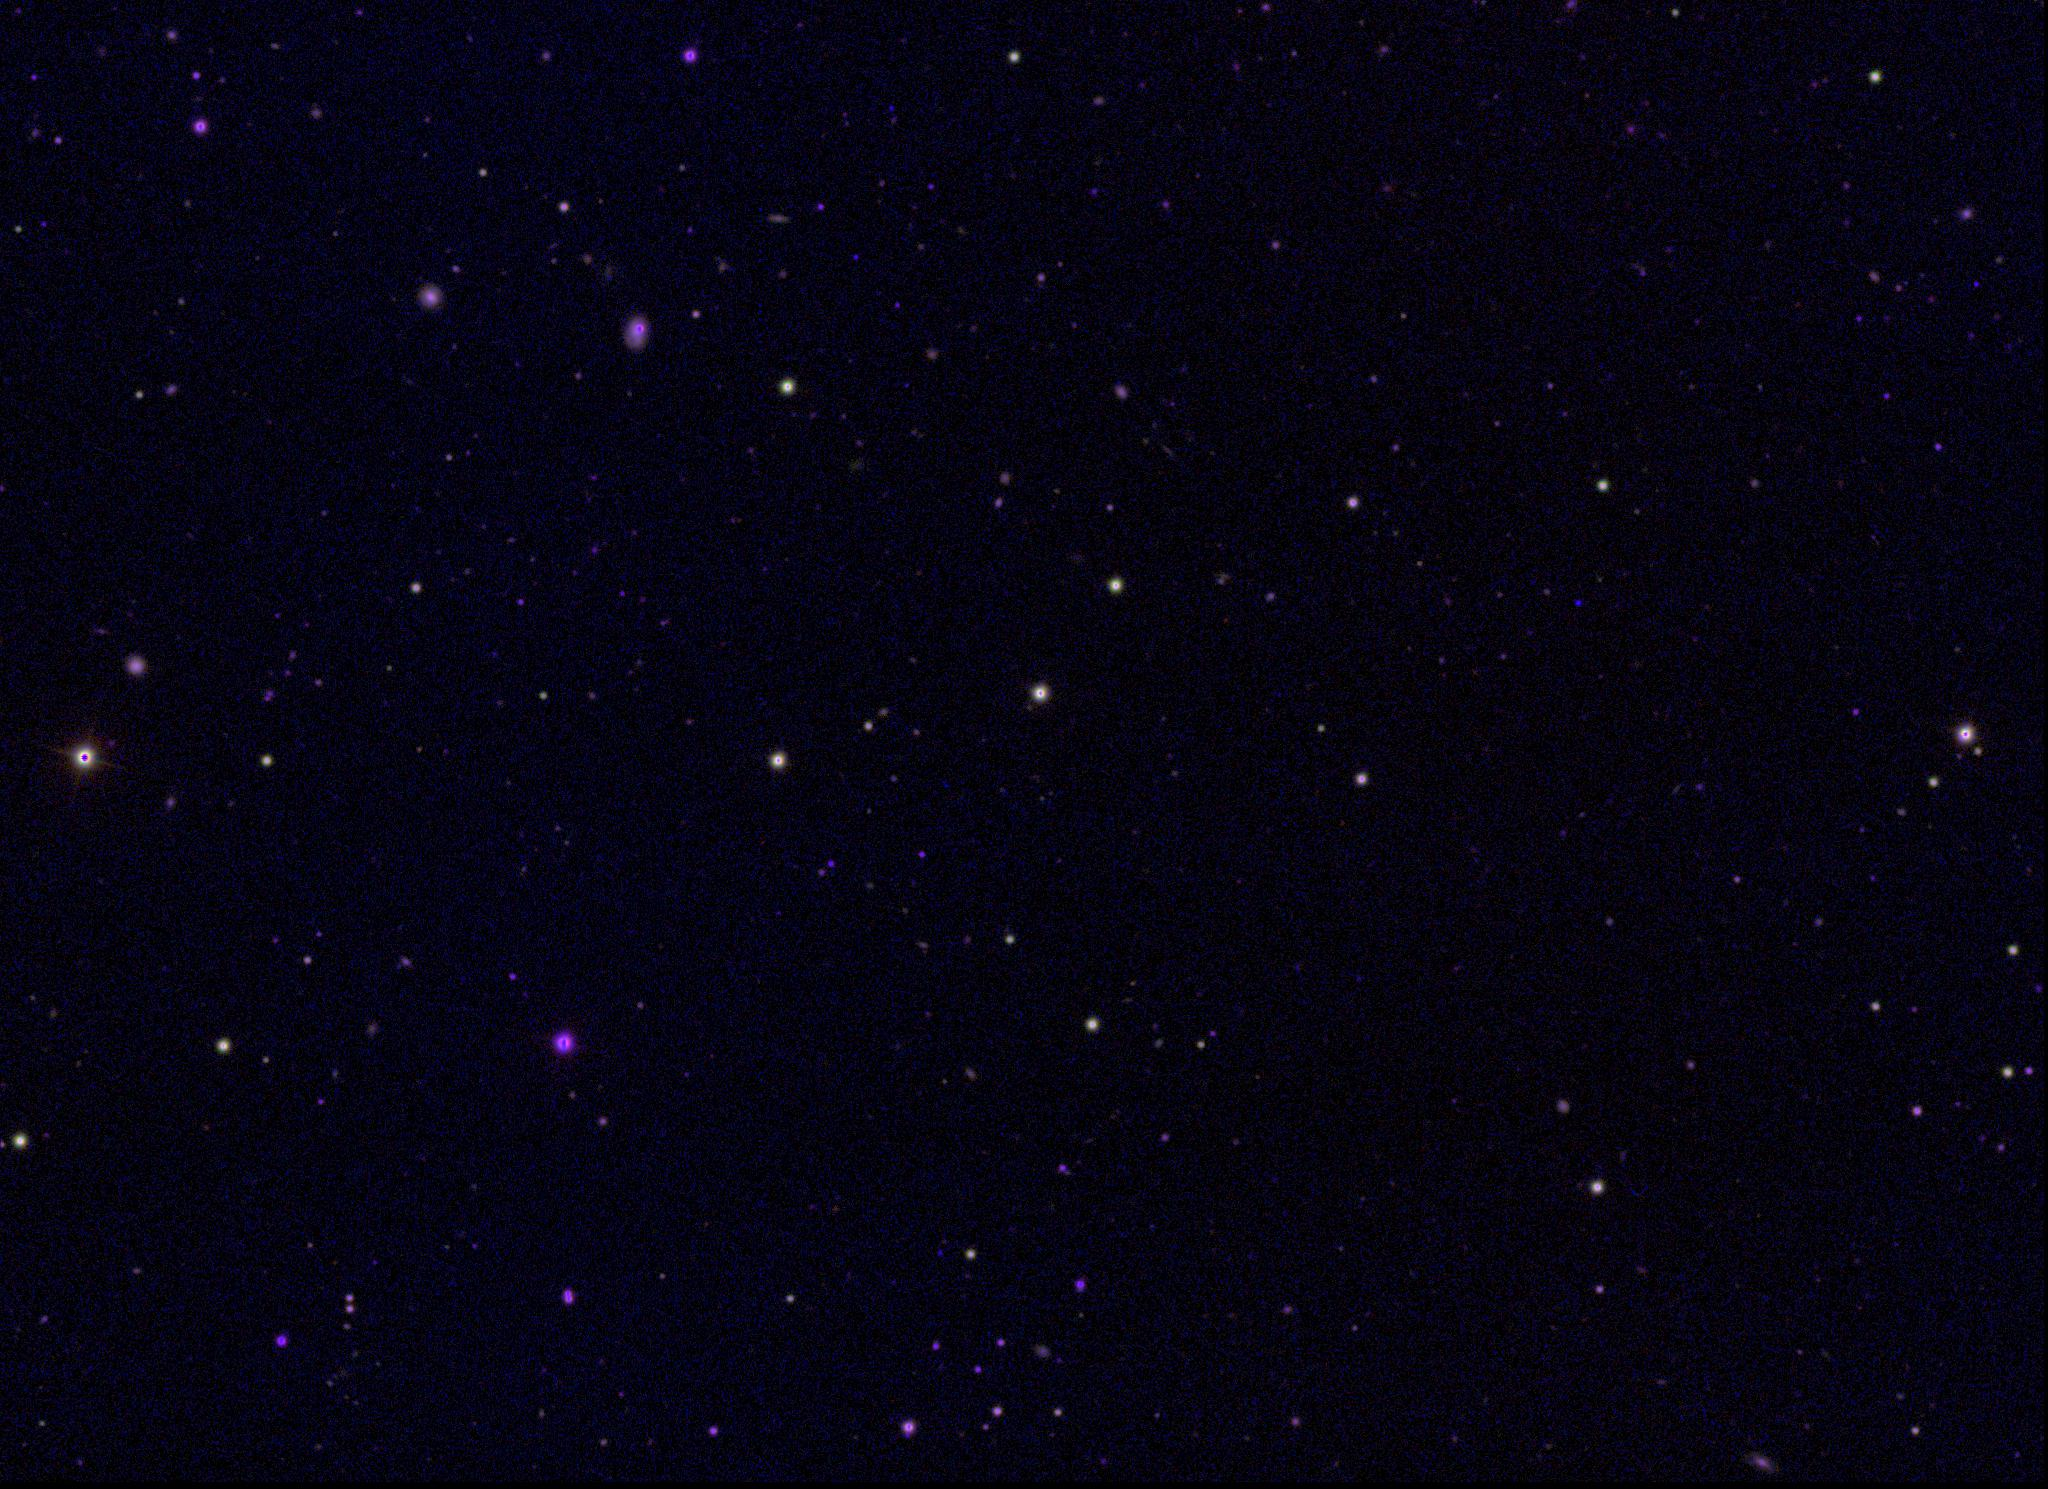L: (1571, 593, 1585, 608)
